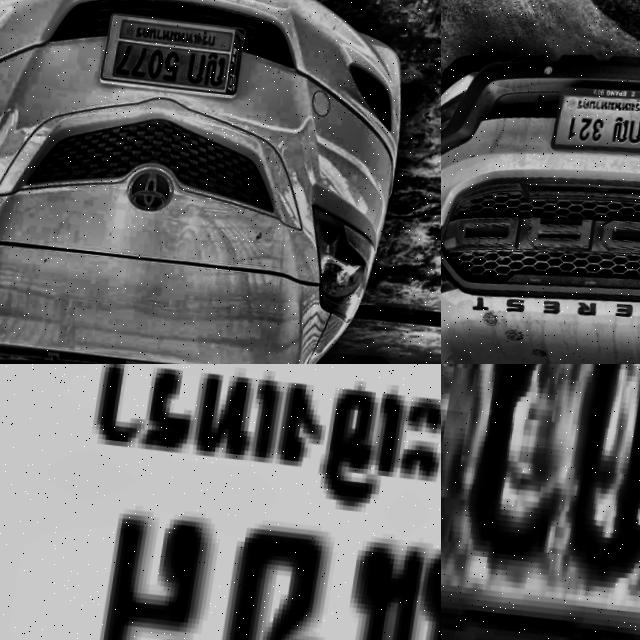license-plate: (0, 364, 441, 640), (441, 364, 640, 640), (95, 5, 251, 108), (546, 79, 640, 160)
